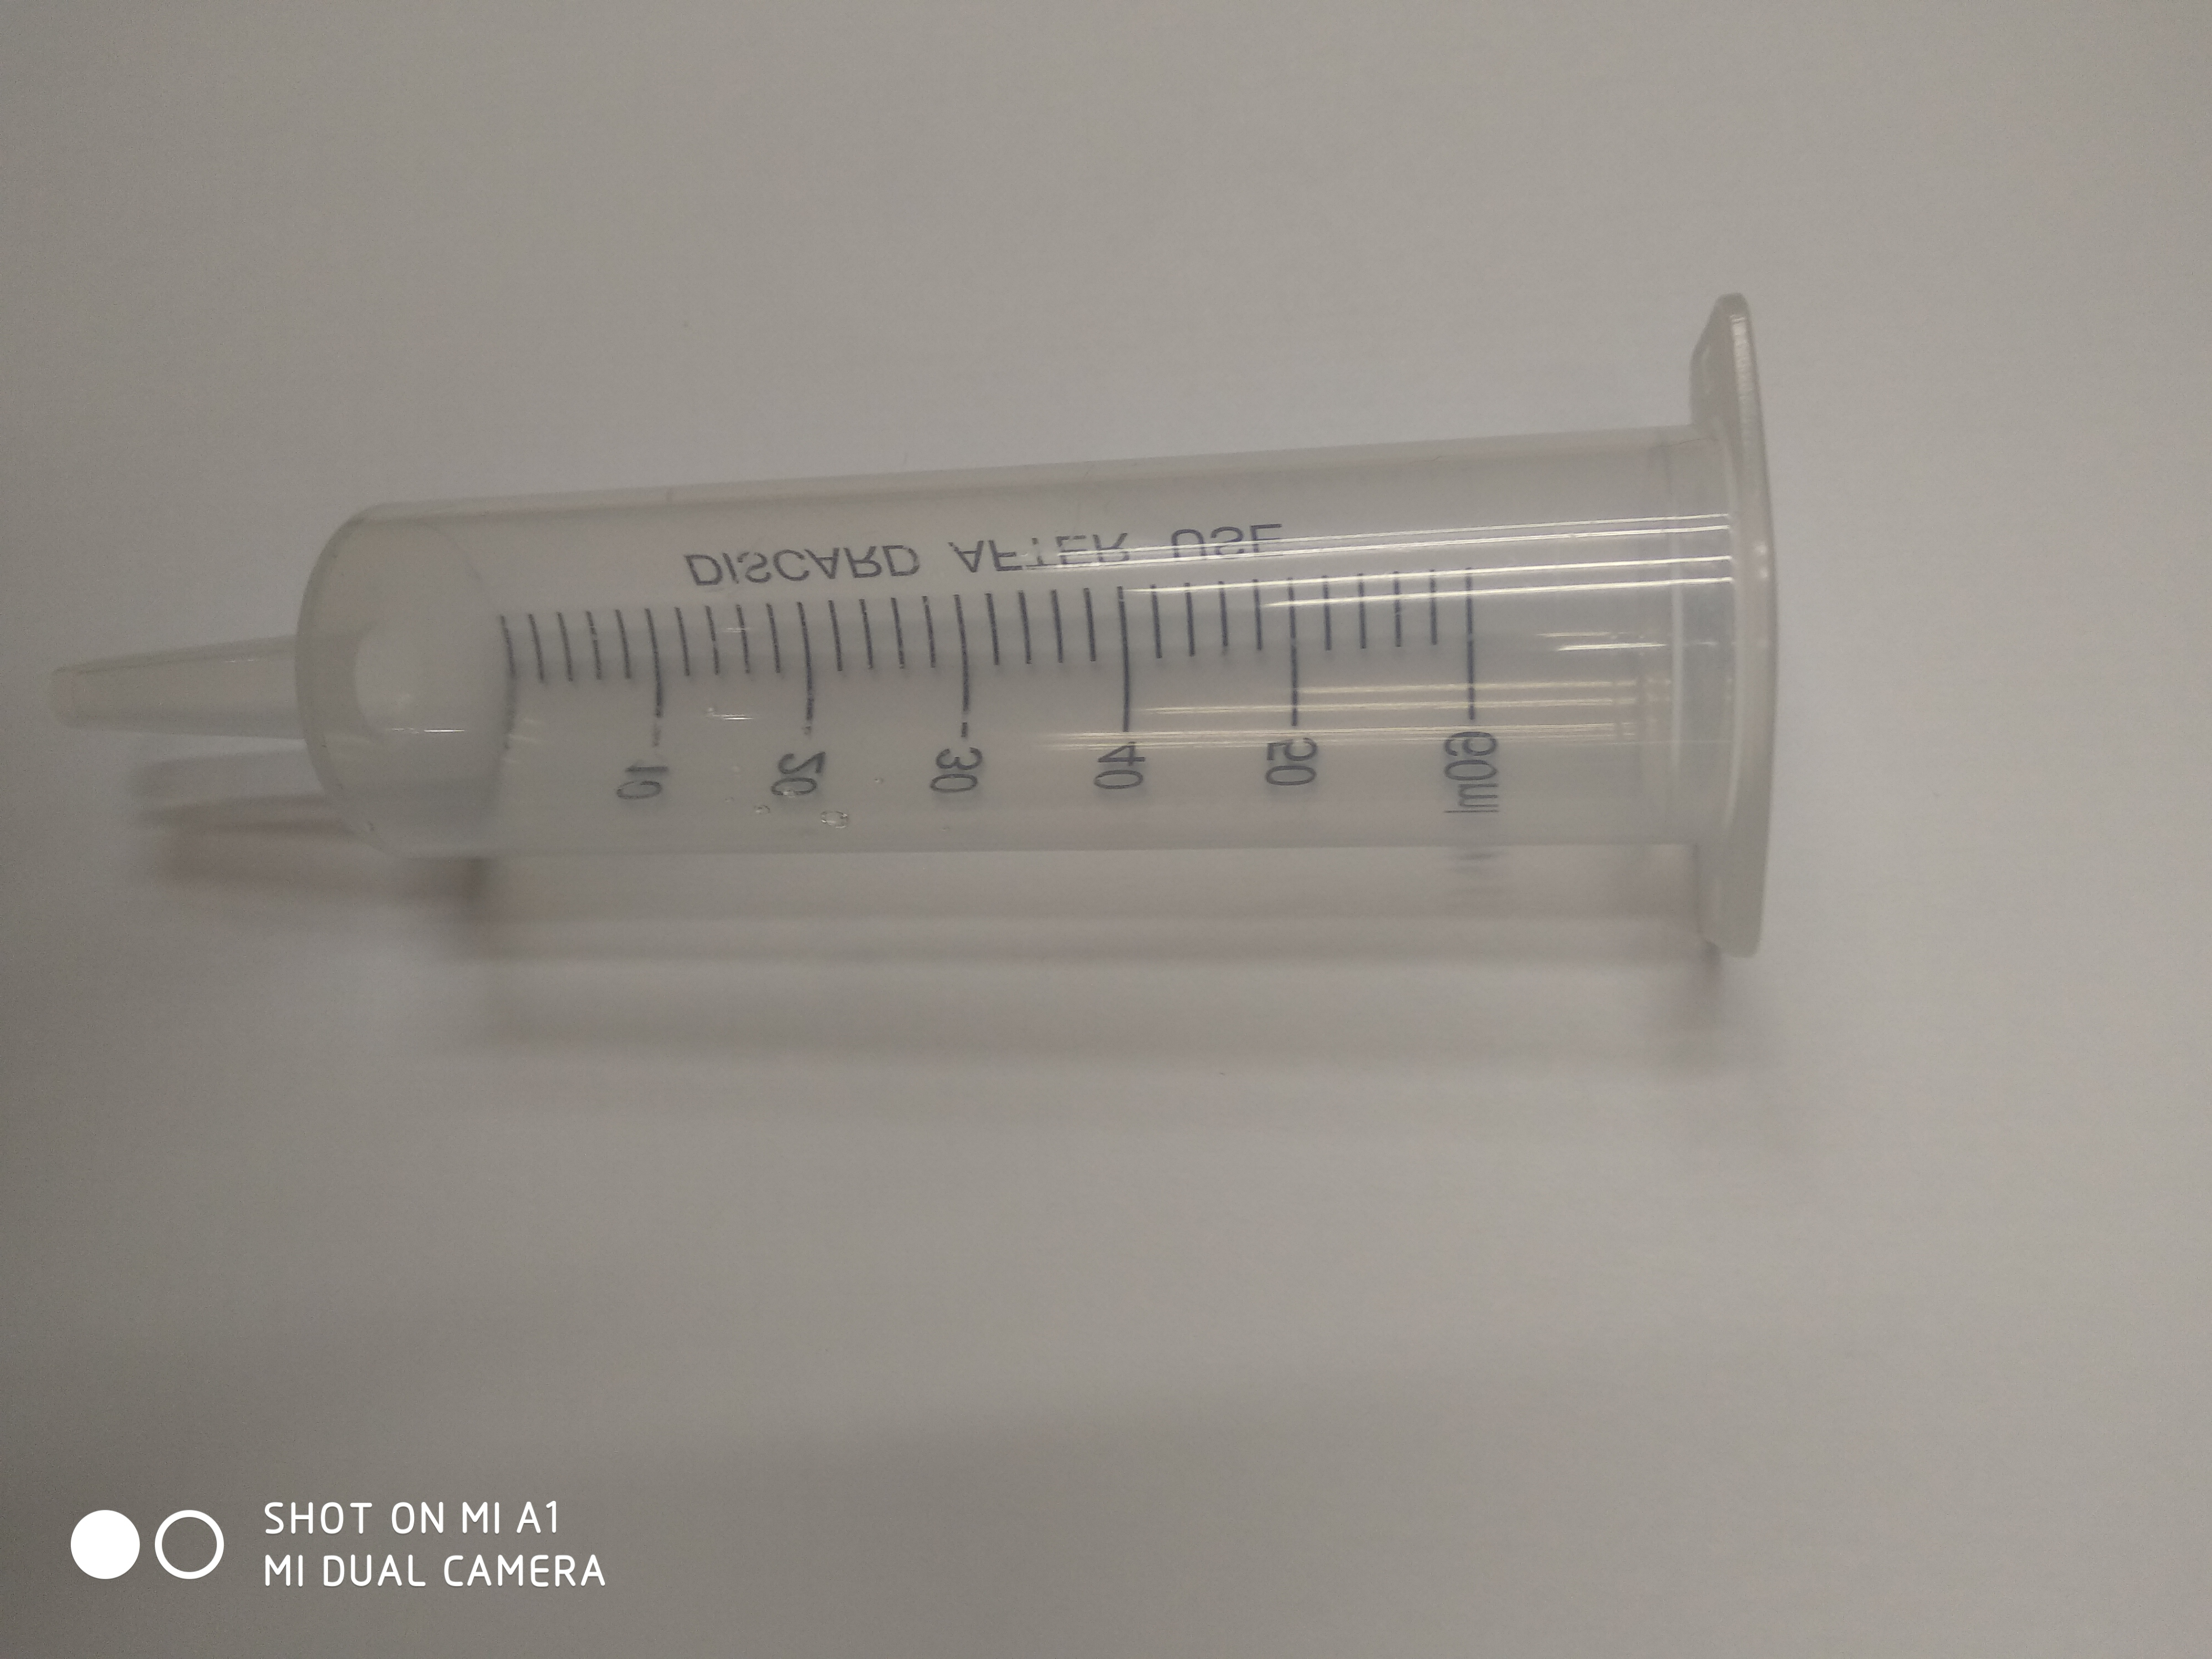syringe: (38, 284, 1797, 971)
